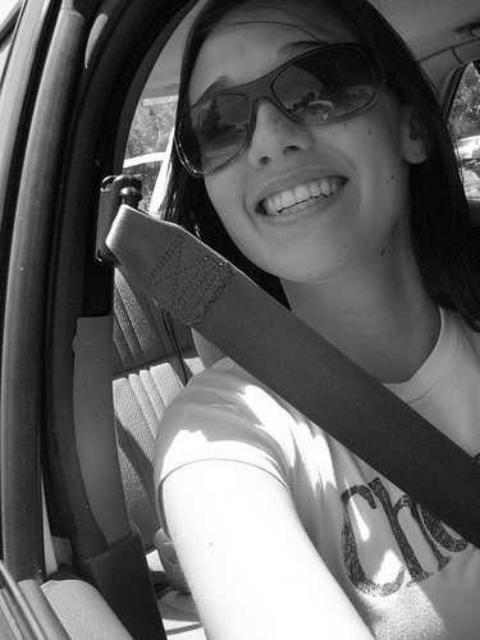Seatbelt: (90, 178, 480, 556)
